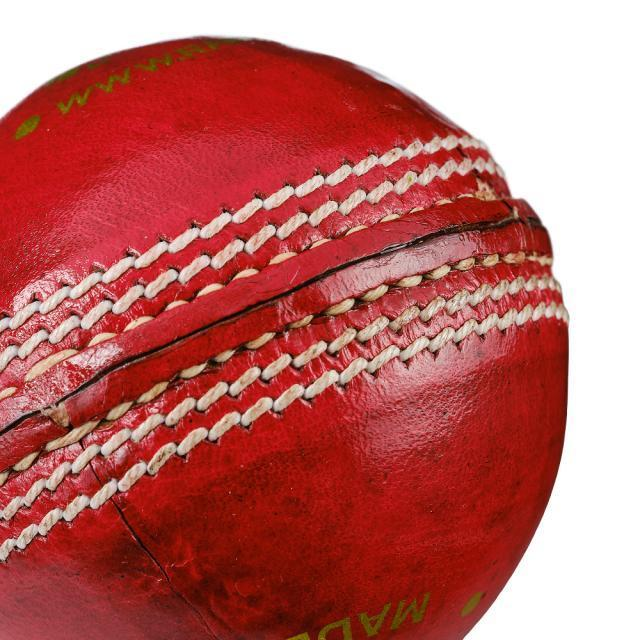cricket ball: (0, 35, 570, 639)
